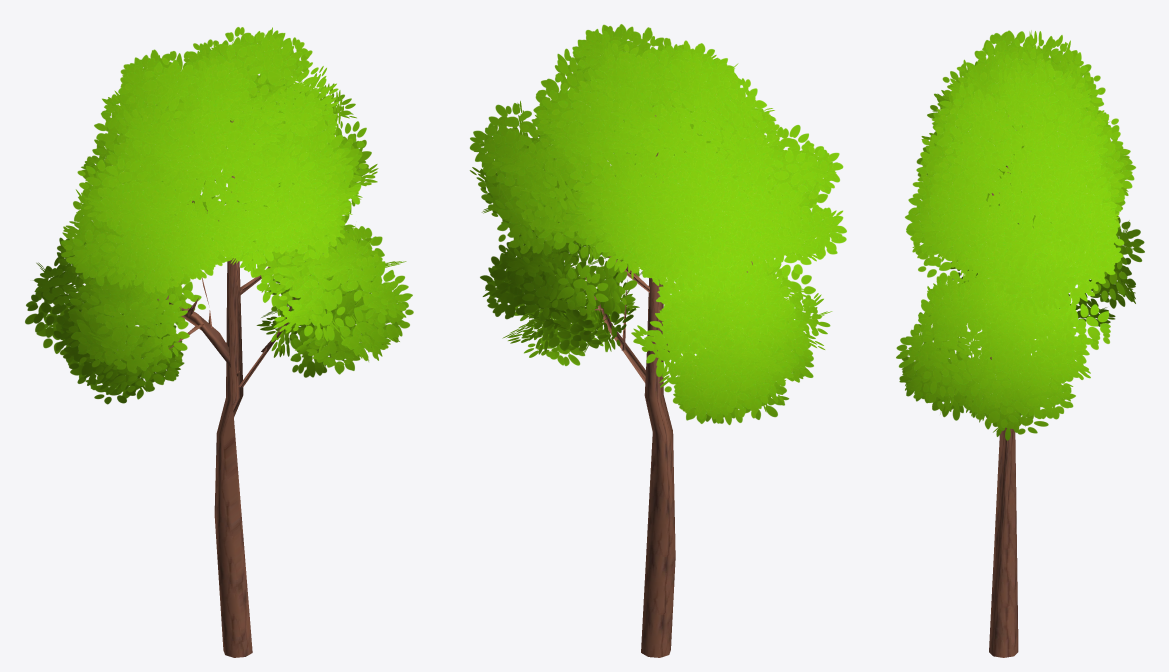
The model's file is normal-trees-1.glb.
3 views of the same model, side by side, from view 1: azimuth 30°, elevation 25°; view 2: azimuth 150°, elevation 25°; view 3: azimuth 270°, elevation 25° (orthographic). The views are drawn at different scales.
Parts seen in each view (by area): view 1: NormalTree_1; view 2: NormalTree_1; view 3: NormalTree_1.
Part boxes in pixels (left/top/right/bottom): NormalTree_1: left=25, top=27, right=413, bottom=657; NormalTree_1: left=469, top=24, right=846, bottom=657; NormalTree_1: left=896, top=30, right=1144, bottom=657.
Bounding box in the file's own units: 4.05 × 6.87 × 2.74.
2 materials, 2 textured.
